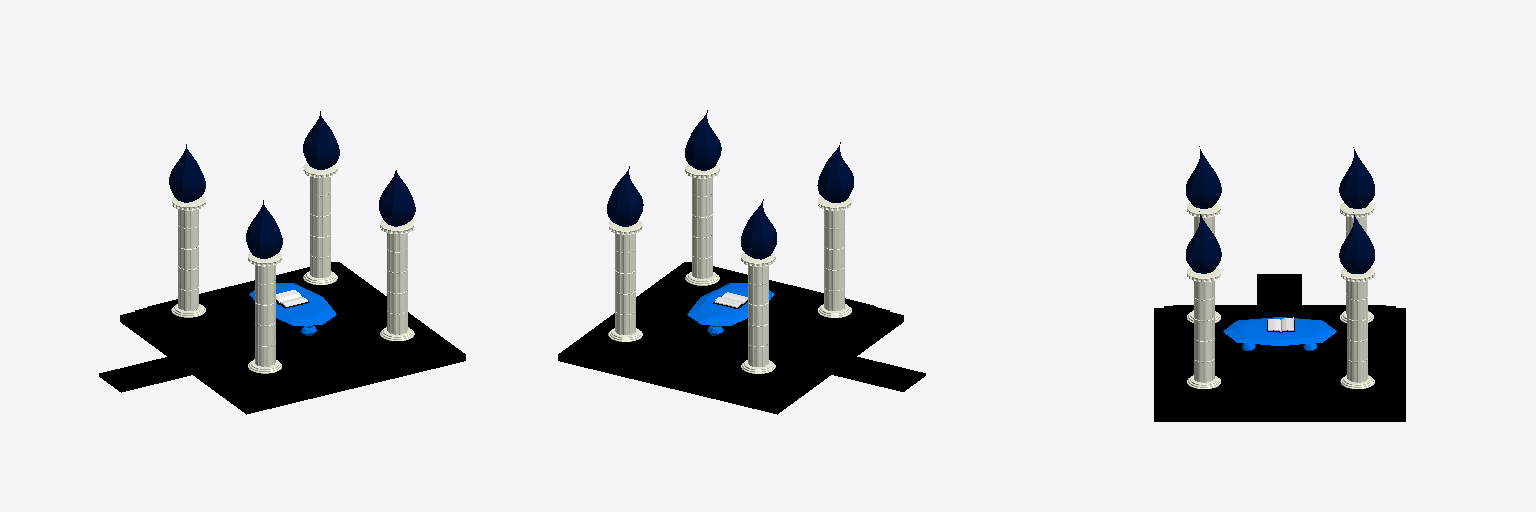
The model's file is WaterALTAR3.obj.
3 views of the same model, side by side, from view 1: azimuth 30°, elevation 25°; view 2: azimuth 150°, elevation 25°; view 3: azimuth 270°, elevation 25° (orthographic).
Parts seen in each view (by area): view 1: MushroomsALTAR4:altar_mushroom_Tier2:altar:pCube15 MushroomsALTA, MushroomsALTAR4:altar_mushroom_Tier2:altar:polySurface29 Mushroo, MushroomsALTAR4:altar_mushroom_Tier2:altar:pCylinder9, MushroomsALTAR4:altar_mushroom_Tier2:altar:pCylinder12, MushroomsALTAR4:altar_mushroom_Tier2:altar:pCylinder10, MushroomsALTAR4:altar_mushroom_Tier2:altar:pCylinder11, MushroomsALTAR4:altar_mushroom_Tier2:altar:polySurface26 Mushroo, pCube28, pCube30, Water:pCube28, pCube29; view 2: MushroomsALTAR4:altar_mushroom_Tier2:altar:pCube15 MushroomsALTA, MushroomsALTAR4:altar_mushroom_Tier2:altar:polySurface29 Mushroo, MushroomsALTAR4:altar_mushroom_Tier2:altar:pCylinder9, MushroomsALTAR4:altar_mushroom_Tier2:altar:pCylinder10, MushroomsALTAR4:altar_mushroom_Tier2:altar:pCylinder11, MushroomsALTAR4:altar_mushroom_Tier2:altar:pCylinder12, MushroomsALTAR4:altar_mushroom_Tier2:altar:polySurface26 Mushroo, pCube30, pCube29, pCube28, Water:pCube28; view 3: MushroomsALTAR4:altar_mushroom_Tier2:altar:pCube15 MushroomsALTA, MushroomsALTAR4:altar_mushroom_Tier2:altar:polySurface29 Mushroo, MushroomsALTAR4:altar_mushroom_Tier2:altar:polySurface26 Mushroo, MushroomsALTAR4:altar_mushroom_Tier2:altar:pCylinder10, MushroomsALTAR4:altar_mushroom_Tier2:altar:pCylinder9, Water:pCube28, pCube28, pCube29, pCube30, MushroomsALTAR4:altar_mushroom_Tier2:altar:pCylinder12, MushroomsALTAR4:altar_mushroom_Tier2:altar:pCylinder11.
Part boxes in pixels (x1,y1,x2,y2): MushroomsALTAR4:altar_mushroom_Tier2:altar:pCube15 MushroomsALTA: (99, 262, 450, 401); MushroomsALTAR4:altar_mushroom_Tier2:altar:polySurface29 Mushroo: (120, 262, 465, 414); MushroomsALTAR4:altar_mushroom_Tier2:altar:pCylinder9: (303, 163, 337, 284); MushroomsALTAR4:altar_mushroom_Tier2:altar:pCylinder12: (171, 196, 205, 317); MushroomsALTAR4:altar_mushroom_Tier2:altar:pCylinder10: (380, 220, 414, 340); MushroomsALTAR4:altar_mushroom_Tier2:altar:pCylinder11: (248, 252, 281, 373); MushroomsALTAR4:altar_mushroom_Tier2:altar:polySurface26 Mushroo: (249, 283, 336, 335); pCube28: (246, 200, 282, 258); pCube30: (303, 111, 339, 169); Water:pCube28: (169, 144, 205, 202); pCube29: (379, 170, 415, 226); MushroomsALTAR4:altar_mushroom_Tier2:altar:pCube15 MushroomsALTA: (573, 262, 925, 400); MushroomsALTAR4:altar_mushroom_Tier2:altar:polySurface29 Mushroo: (558, 262, 903, 414); MushroomsALTAR4:altar_mushroom_Tier2:altar:pCylinder9: (608, 220, 642, 341); MushroomsALTAR4:altar_mushroom_Tier2:altar:pCylinder10: (685, 164, 719, 285); MushroomsALTAR4:altar_mushroom_Tier2:altar:pCylinder11: (818, 196, 851, 317); MushroomsALTAR4:altar_mushroom_Tier2:altar:pCylinder12: (741, 252, 775, 373); MushroomsALTAR4:altar_mushroom_Tier2:altar:polySurface26 Mushroo: (687, 283, 774, 335); pCube30: (607, 166, 643, 226); pCube29: (685, 110, 721, 170); pCube28: (817, 142, 853, 202); Water:pCube28: (741, 199, 776, 259); MushroomsALTAR4:altar_mushroom_Tier2:altar:pCube15 MushroomsALTA: (1164, 274, 1395, 410); MushroomsALTAR4:altar_mushroom_Tier2:altar:polySurface29 Mushroo: (1154, 308, 1405, 421); MushroomsALTAR4:altar_mushroom_Tier2:altar:polySurface26 Mushroo: (1223, 317, 1336, 350); MushroomsALTAR4:altar_mushroom_Tier2:altar:pCylinder10: (1187, 267, 1220, 388); MushroomsALTAR4:altar_mushroom_Tier2:altar:pCylinder9: (1340, 267, 1374, 388); Water:pCube28: (1339, 147, 1374, 208); pCube28: (1186, 146, 1221, 208); pCube29: (1186, 211, 1221, 273); pCube30: (1339, 212, 1374, 273); MushroomsALTAR4:altar_mushroom_Tier2:altar:pCylinder12: (1340, 203, 1373, 322); MushroomsALTAR4:altar_mushroom_Tier2:altar:pCylinder11: (1187, 203, 1220, 322).
Bounding box in the file's own units: 18.47 × 11.4 × 13.82.